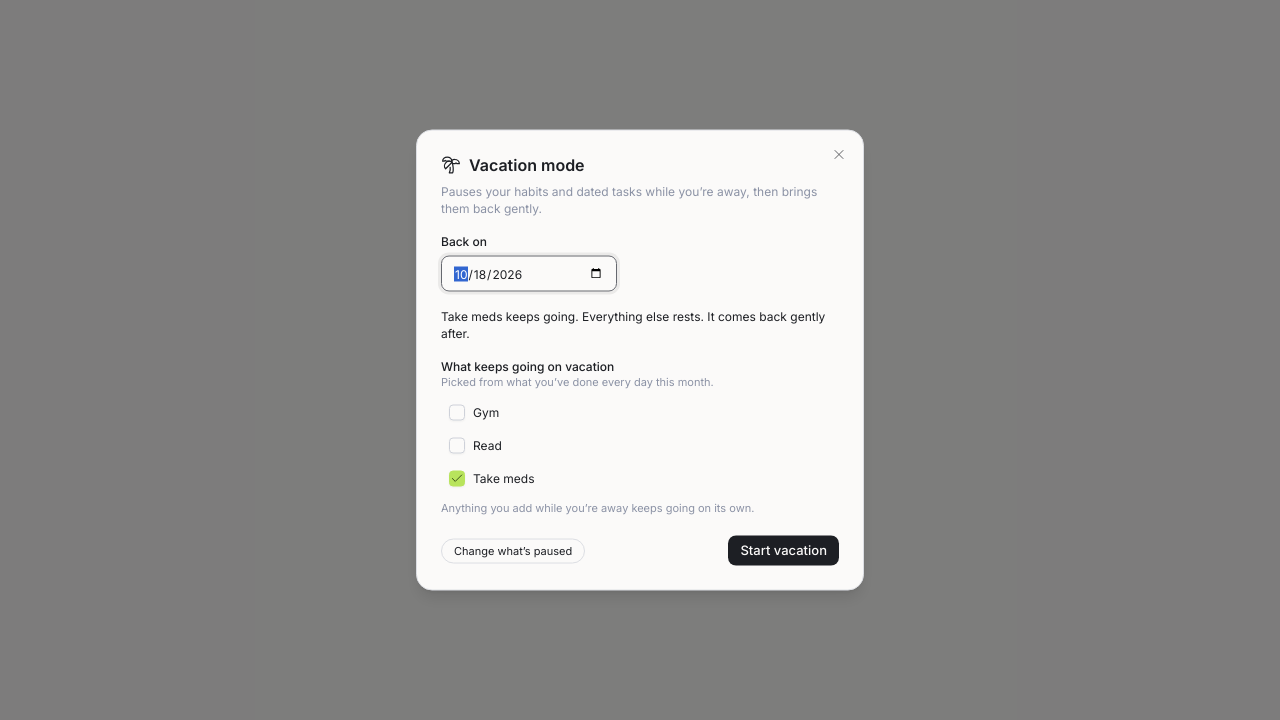
Test: the vacation card › lets the picker change what keeps going
Click the checkbox named "Gym" next to "Gym". click: (457, 412)
box: [449,404,465,420]
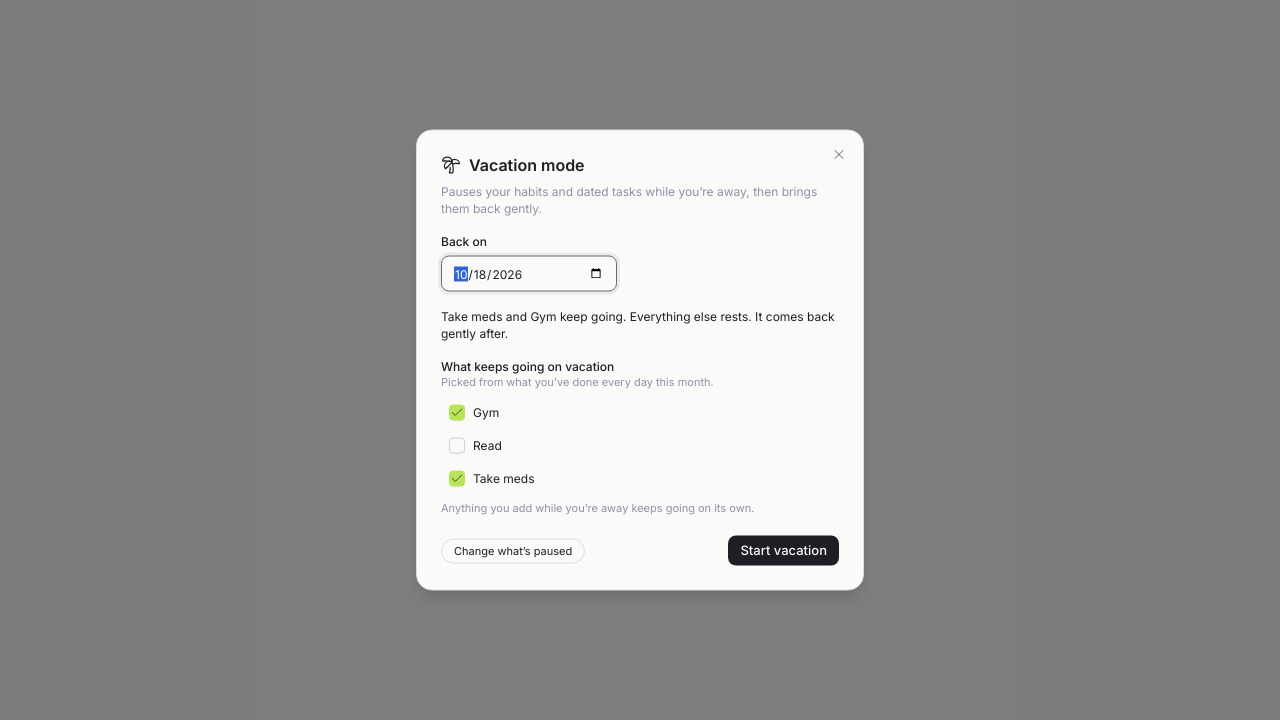
Result: the text with test id "vacation-keep-sentence" shows "Take meds and Gym keep going." at [441,308,752,324]
